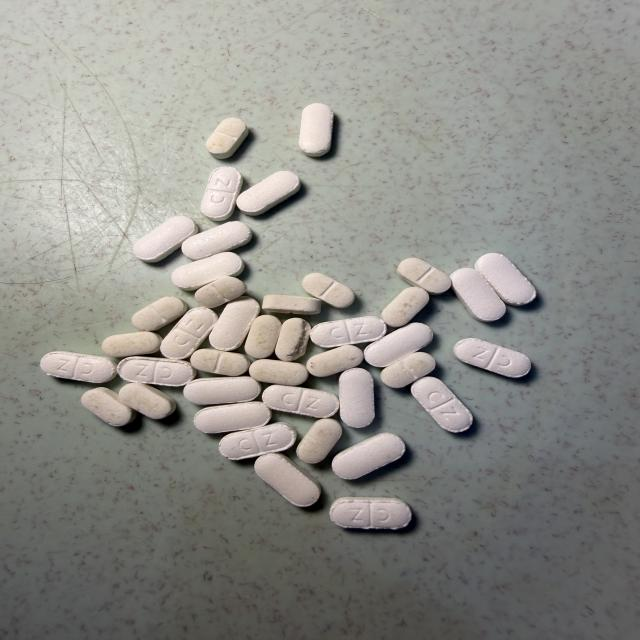pill: (255, 453, 321, 506), (332, 433, 405, 479), (411, 377, 472, 432), (475, 253, 536, 305), (454, 338, 531, 377), (133, 216, 198, 262), (160, 307, 217, 359), (365, 323, 432, 367), (451, 268, 505, 321), (219, 423, 296, 460), (237, 171, 300, 215), (172, 252, 244, 290), (182, 221, 252, 260), (210, 297, 260, 351), (330, 497, 411, 529), (263, 385, 339, 418), (194, 402, 271, 433), (40, 352, 116, 383), (310, 317, 387, 347), (118, 357, 195, 386), (201, 167, 243, 220), (339, 368, 375, 428), (184, 377, 261, 405), (81, 388, 136, 426), (119, 383, 176, 419), (297, 419, 342, 463), (381, 352, 435, 388), (397, 258, 451, 294), (381, 287, 429, 327), (132, 297, 187, 331), (302, 273, 354, 308), (307, 345, 363, 377), (299, 104, 333, 156), (206, 118, 248, 159), (195, 276, 246, 308), (191, 349, 250, 376), (245, 315, 281, 358), (101, 332, 162, 357), (275, 318, 310, 361), (249, 360, 308, 385), (263, 295, 321, 314)
